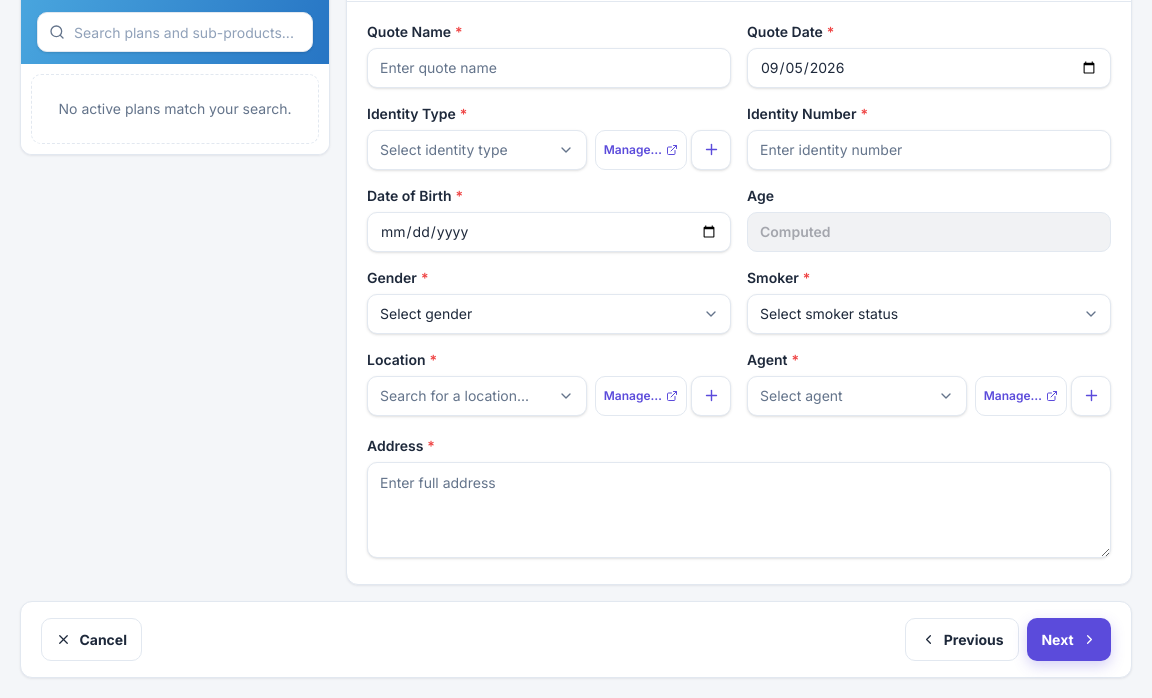
Scenario: OL quotation wizard › blocks navigation when Personal Details is invalid
The width and height of the screenshot is (1152, 698).
(page scrolled)
Click the button "Next" at coordinates (1069, 639), box [1027,618,1111,661]
(page scrolled)
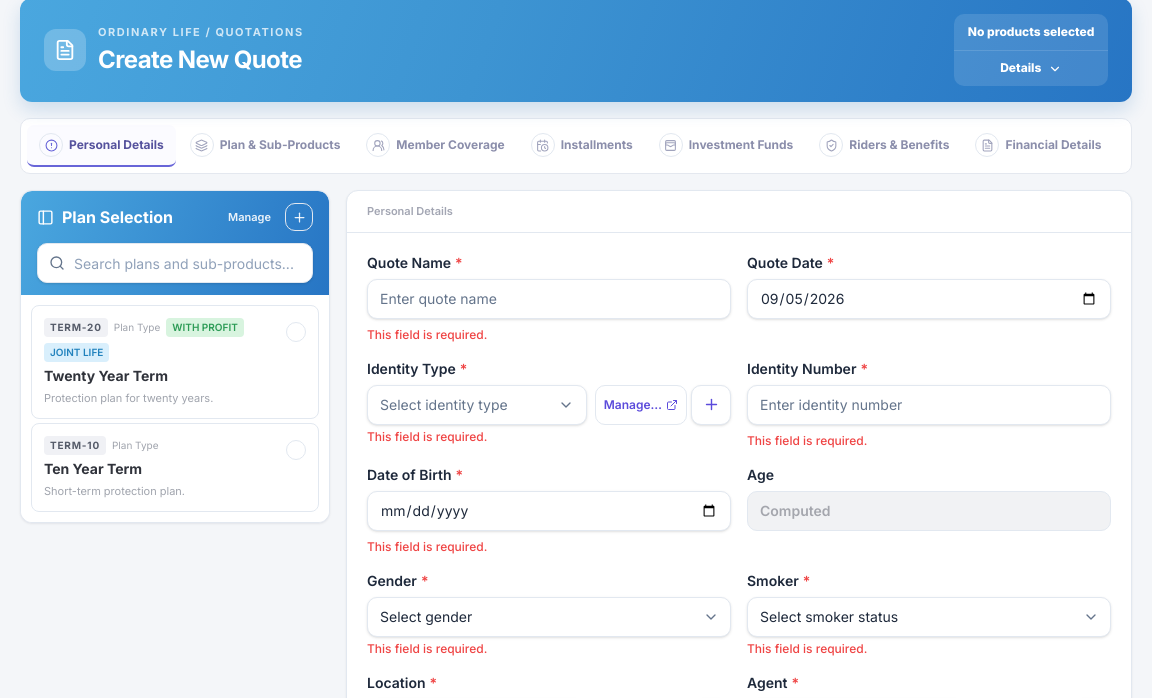
Expected: the text "This field is required." is shown 9 times
